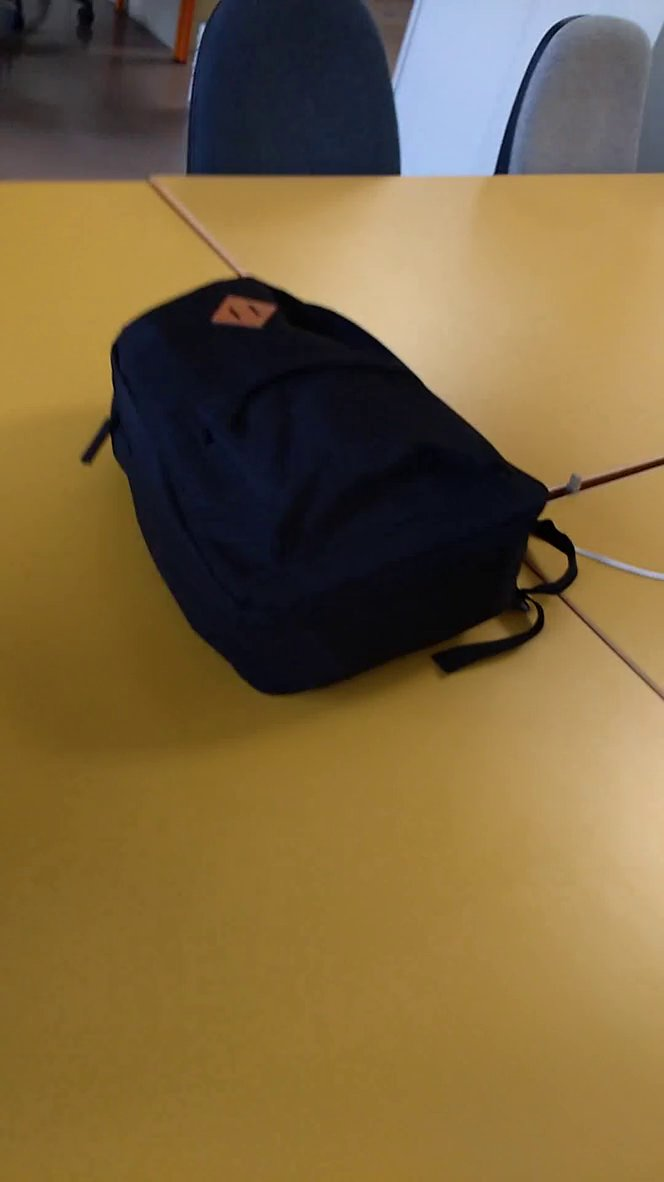bag: (74, 269, 589, 707)
chair: (174, 1, 414, 185), (471, 6, 664, 189)
